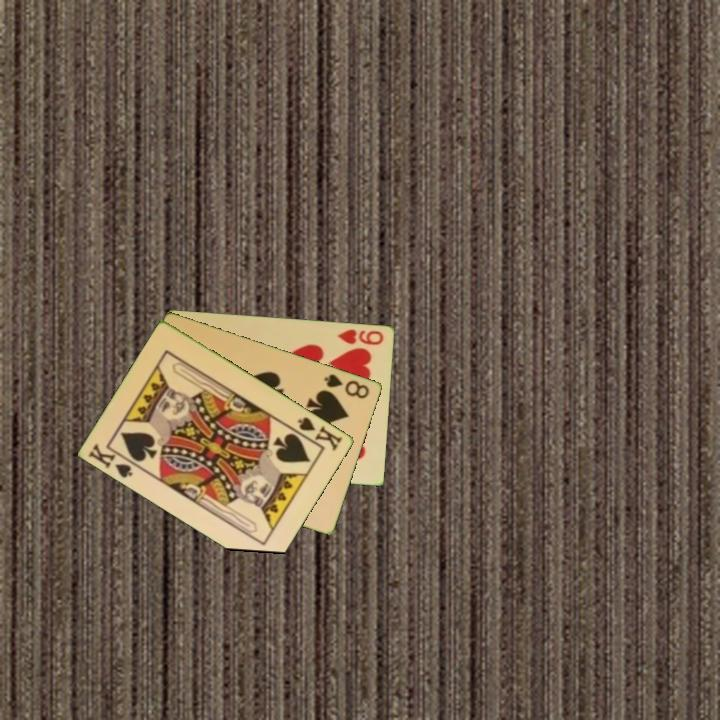8s: (321, 370, 372, 402)
9h: (335, 325, 387, 348)
Ks: (85, 439, 142, 481), (294, 413, 346, 454)
